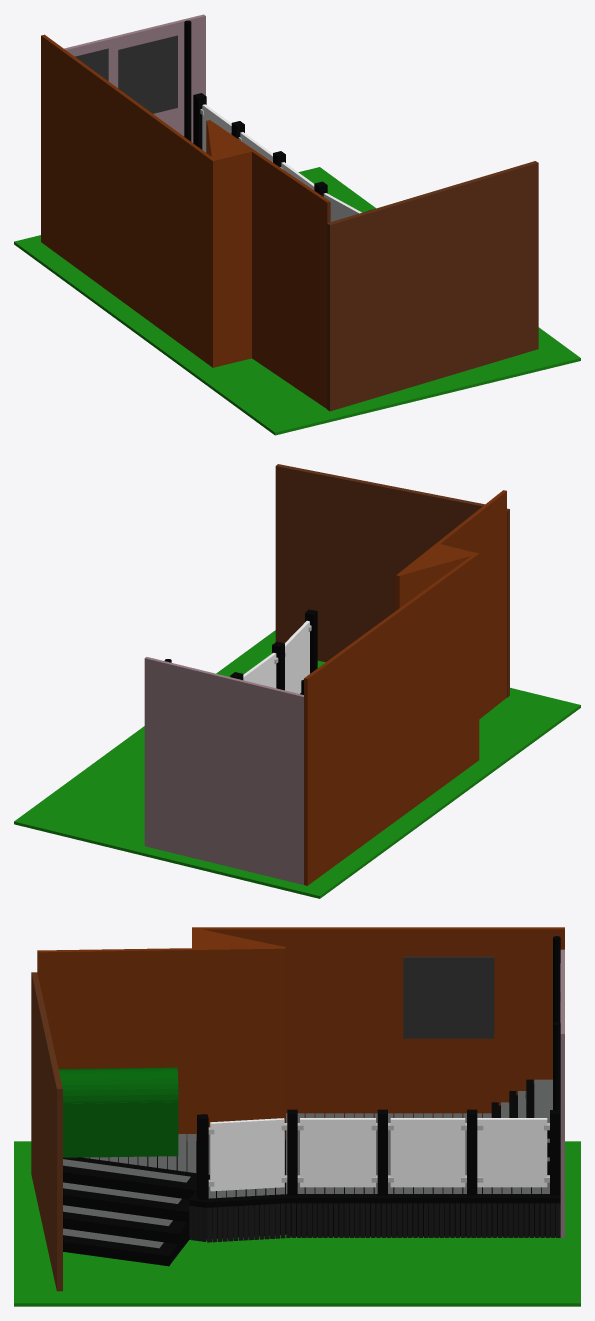
The model's file is Finished Project with Adjustments 3 (Model 1) .glb.
3 renders of one model, top to bottom at view 1: azimuth 30°, elevation 25°; view 2: azimuth 150°, elevation 25°; view 3: azimuth 270°, elevation 25°, orthographic. The views are drawn at different scales.
Visible parts, largest first — view 1: 5- fence side wall, 2- SIde wall, 4- Angled wall, Build Base, 3- Small angle wall, 1-Door wall, 7- Door wall window, 10- pipe 2, 6- Door, A, 1- Pannel; view 2: 2- SIde wall, 1-Door wall, 5- fence side wall, Build Base, 4- Angled wall, 3- Small angle wall, 4- Pannel, 3- Pannel; view 3: 2- SIde wall, Build Base, 4- Angled wall, 11- oil tank, 8- Wall window, 5- fence side wall, 3- Pannel, 2- Pannel, 4- Pannel, 1- Pannel, Front straight, front shadow (+21 smaller).
Boxes of the visible parts, x1=… form: 5- fence side wall: x1=327, y1=161, x2=538, y2=411; 2- SIde wall: x1=41, y1=34, x2=216, y2=367; 4- Angled wall: x1=206, y1=120, x2=330, y2=408; Build Base: x1=14, y1=167, x2=580, y2=435; 3- Small angle wall: x1=206, y1=121, x2=251, y2=366; 1-Door wall: x1=64, y1=14, x2=205, y2=142; 7- Door wall window: x1=118, y1=35, x2=177, y2=113; 10- pipe 2: x1=184, y1=20, x2=191, y2=141; 6- Door: x1=75, y1=48, x2=108, y2=80; A: x1=193, y1=93, x2=206, y2=149; 1- Pannel: x1=202, y1=104, x2=231, y2=152; 2- SIde wall: x1=304, y1=552, x2=479, y2=885; 1-Door wall: x1=144, y1=657, x2=303, y2=884; 5- fence side wall: x1=275, y1=464, x2=509, y2=697; Build Base: x1=14, y1=630, x2=580, y2=898; 4- Angled wall: x1=396, y1=490, x2=506, y2=719; 3- Small angle wall: x1=400, y1=544, x2=474, y2=607; 4- Pannel: x1=285, y1=620, x2=309, y2=693; 3- Pannel: x1=243, y1=652, x2=276, y2=688; 2- SIde wall: x1=192, y1=927, x2=564, y2=1119; Build Base: x1=14, y1=1141, x2=580, y2=1306; 4- Angled wall: x1=37, y1=946, x2=285, y2=1140; 11- oil tank: x1=58, y1=1067, x2=178, y2=1157; 8- Wall window: x1=403, y1=956, x2=494, y2=1038; 5- fence side wall: x1=31, y1=972, x2=62, y2=1291; 3- Pannel: x1=300, y1=1118, x2=375, y2=1187; 2- Pannel: x1=390, y1=1118, x2=465, y2=1187; 4- Pannel: x1=210, y1=1118, x2=284, y2=1191; 1- Pannel: x1=477, y1=1118, x2=547, y2=1187; Front straight: x1=287, y1=1194, x2=560, y2=1203; front shadow: x1=290, y1=1203, x2=555, y2=1236.
Size of the model in its own units: 25.7 by 16.82 by 38.
